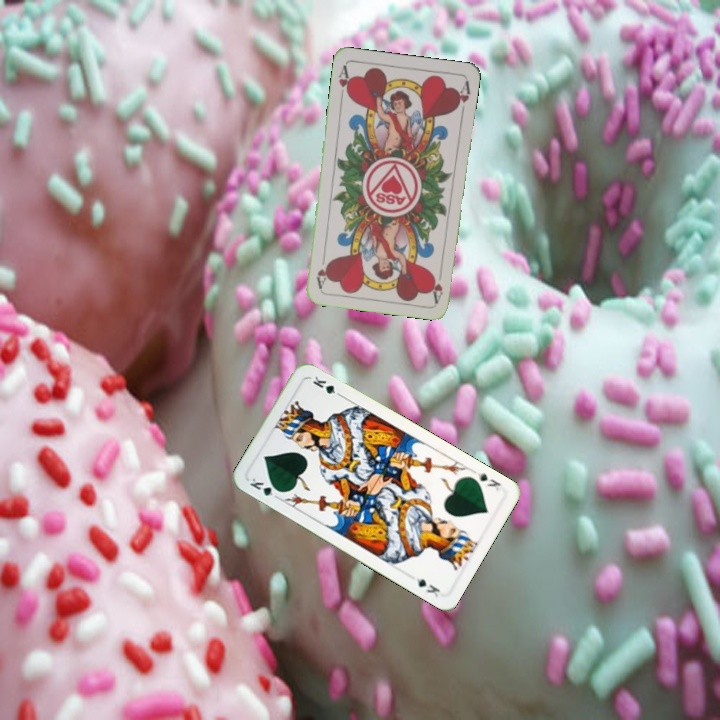GK: (246, 473, 284, 502), (473, 468, 503, 494)
HA: (334, 61, 354, 102), (428, 264, 445, 304)
